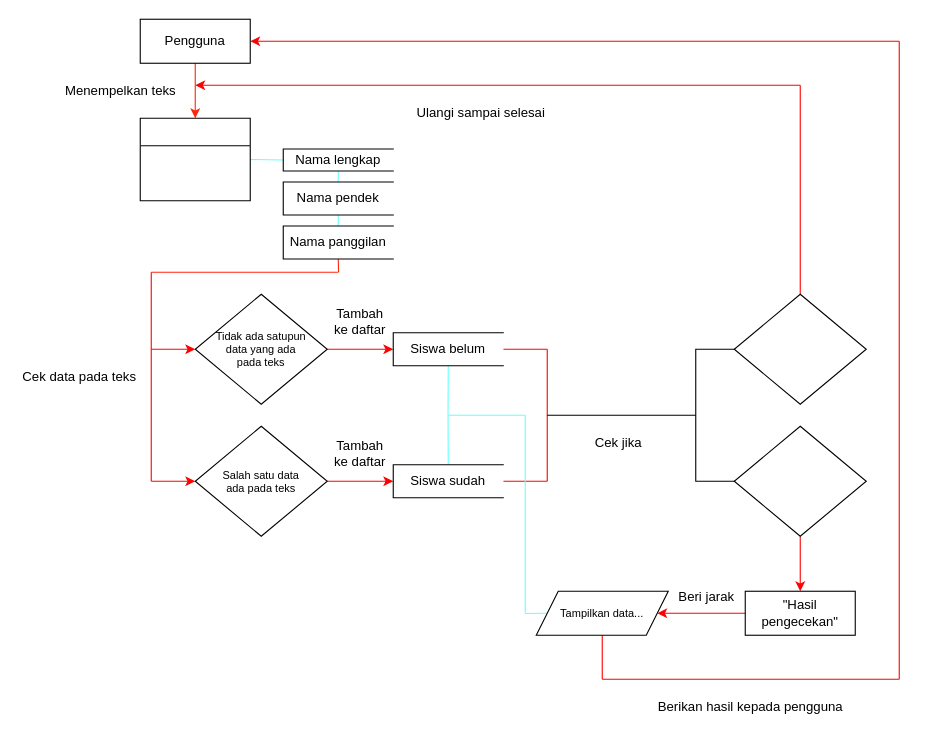
The diagram is 927 pixels wide and 743 high, and some of its shapes have lost their labels. The shapes that lost their labels are listed below. From the top down, each one's box as (x1, y1, x2, y2) in pixels, then its label:
(139, 117, 250, 201): 1.0 Cek data satu per satu dari kompulan teks
(733, 293, 866, 404): Masih ada data siswa yang belum dicek
(733, 425, 866, 536): Semua data siswa telah dicek
